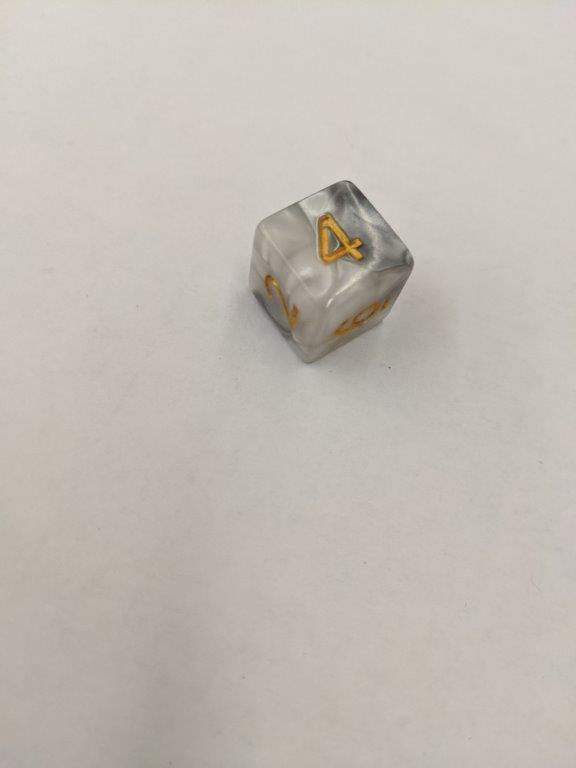d6-4: (248, 181, 415, 366)
